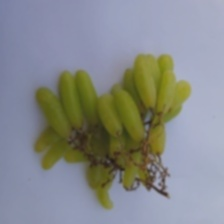grapes: (0, 29, 201, 194)
